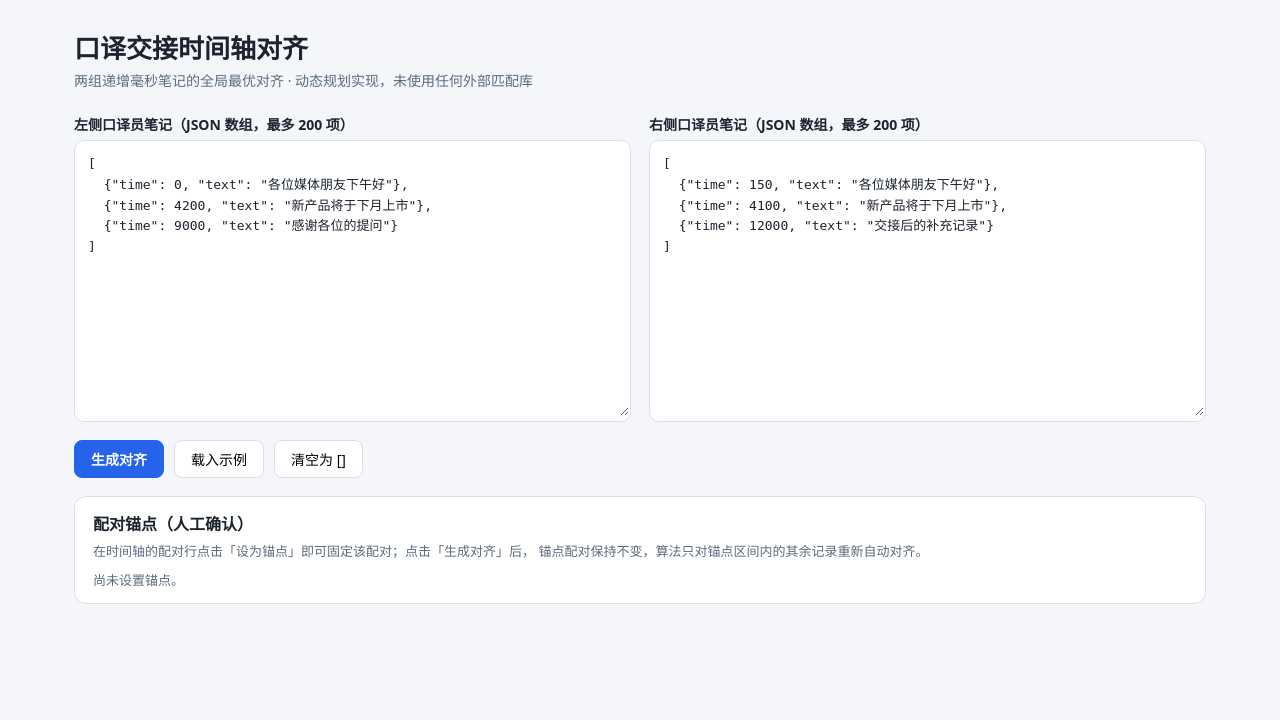
Test case: App › clear button resets both inputs
Click the button with test id "clear". click: click(318, 459)
box: [274,440,363,478]
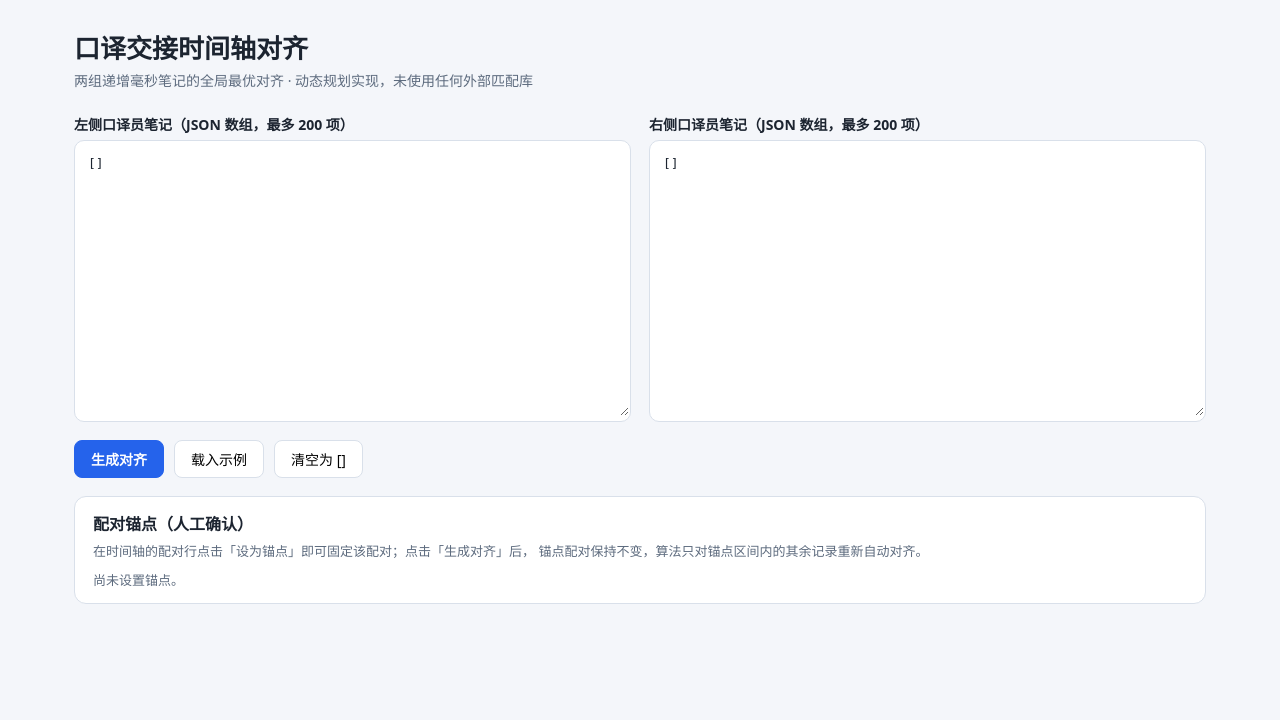
Check: the text box with test id "input-left" holds "[]", box [75,141,630,417]
Check: the text box with test id "input-right" holds "[]", box [650,141,1205,417]
